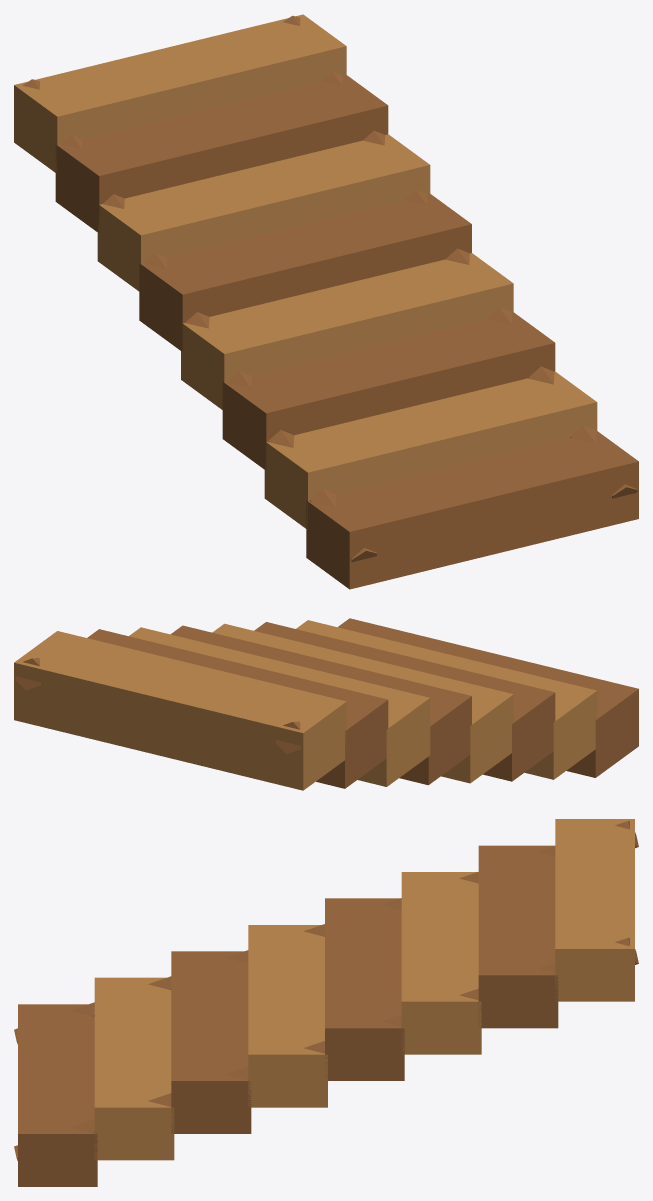
File: wood_stairs.glb
The picture shows the model from 3 angles, top to bottom: view 1: azimuth 30°, elevation 25°; view 2: azimuth 150°, elevation 25°; view 3: azimuth 270°, elevation 25°; orthographic projection. The views are drawn at different scales.
Visible parts, largest first — view 1: Step_1, Step_8, Step_7, Step_6, Step_5, Step_3, Step_4, Step_2, Stringer_0.9, Stringer_-0.9; view 2: Step_8, Step_6, Step_1, Step_2, Step_7, Step_3, Step_4, Step_5, Stringer_-0.9, Stringer_0.9; view 3: Step_8, Step_7, Step_6, Step_2, Step_3, Step_4, Step_5, Step_1, Stringer_0.9, Stringer_-0.9.
Part boxes in pixels (box(x1,y1,x2,y2)): Step_1: box(306, 431, 638, 589); Step_8: box(14, 14, 346, 173); Step_7: box(55, 75, 388, 232); Step_6: box(97, 134, 430, 291); Step_5: box(139, 193, 471, 351); Step_3: box(222, 312, 555, 469); Step_4: box(181, 253, 513, 409); Step_2: box(264, 371, 597, 529); Stringer_0.9: box(283, 15, 637, 498); Stringer_-0.9: box(22, 79, 377, 561); Step_8: box(14, 631, 346, 790); Step_6: box(129, 627, 430, 786); Step_1: box(338, 618, 638, 777); Step_2: box(296, 620, 597, 779); Step_7: box(87, 629, 388, 788); Step_3: box(254, 622, 555, 781); Step_4: box(212, 623, 513, 783); Step_5: box(170, 625, 471, 785); Stringer_-0.9: box(275, 721, 301, 754); Stringer_0.9: box(15, 658, 40, 690); Step_8: box(555, 819, 634, 1001); Step_7: box(478, 845, 558, 1028); Step_6: box(401, 872, 481, 1054); Step_2: box(94, 977, 174, 1160); Step_3: box(171, 951, 251, 1133); Step_4: box(248, 925, 327, 1107); Step_5: box(325, 898, 404, 1080); Step_1: box(18, 1004, 97, 1186); Stringer_0.9: box(14, 937, 638, 1160); Stringer_-0.9: box(14, 821, 638, 1044).
Size of the model in its own units: 2 by 1.74 by 4.07.
